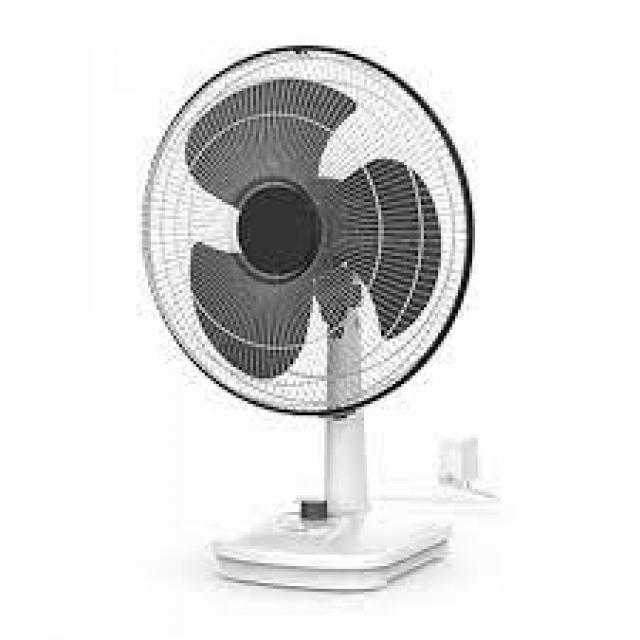fan: (106, 21, 543, 606)
